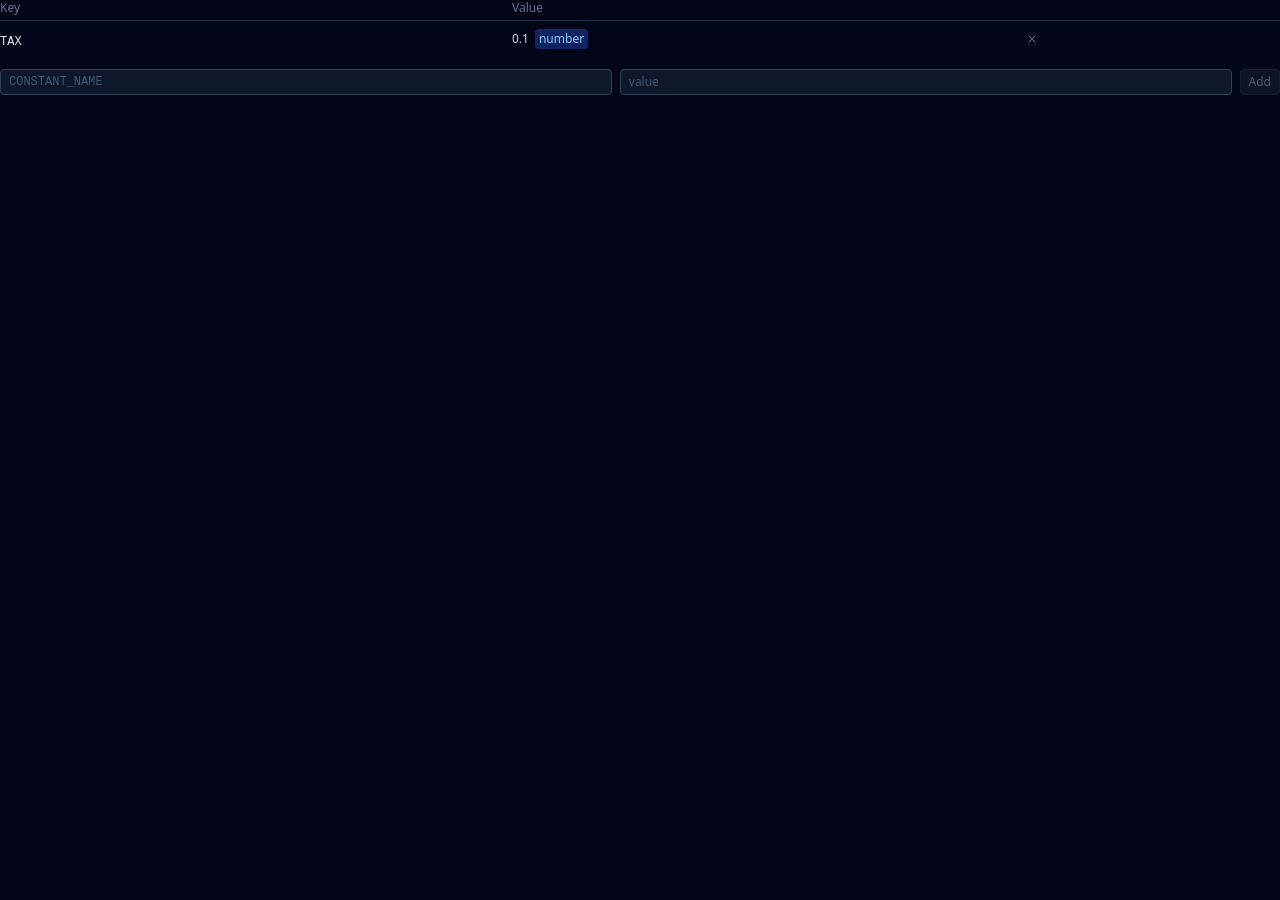
ConstantsSection › delete button shows confirmation dialog
This screenshot has width=1280, height=900.
Click the button with test id "constant-delete-TAX" at [1032, 39], box [1024,31,1040,47]
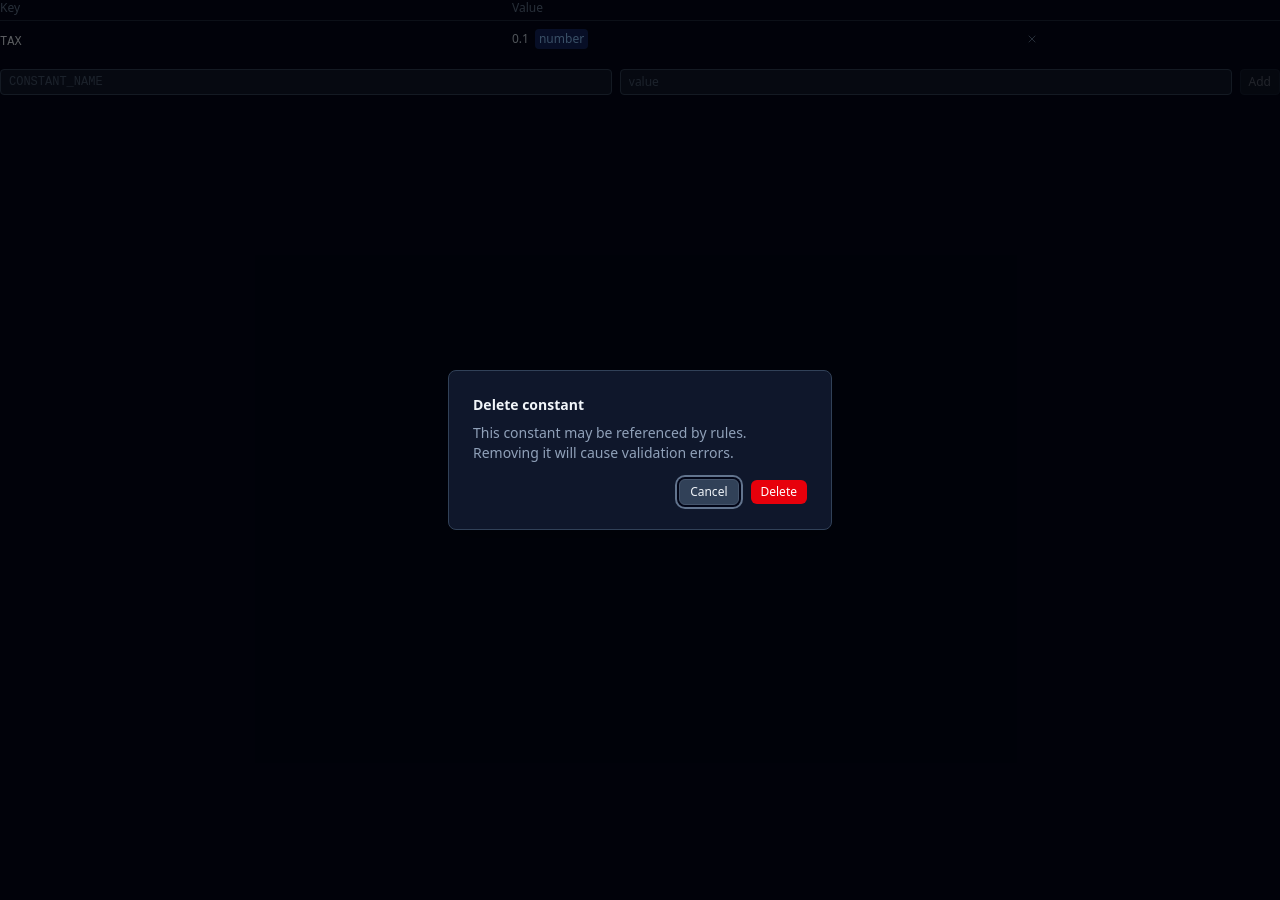
Result: the dialog with test id "confirm-dialog" is shown at [448,370,832,530]
Result: the text "This constant may be referenced by rules. Removing it will cause validation errors." is shown at [473,423,747,462]
